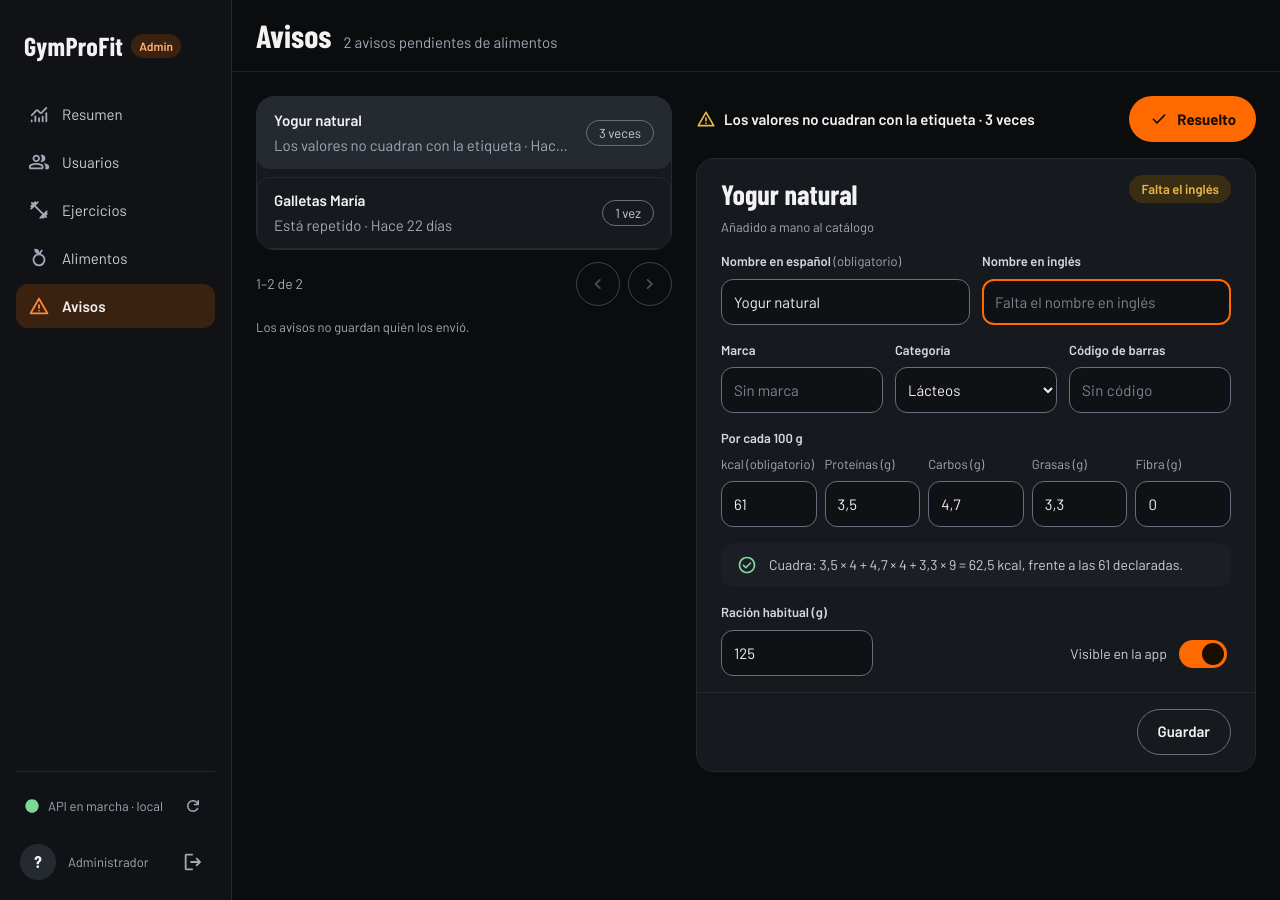
it: Avisos desde 1440 px › un producto sin materializar no se edita, pero se reconoce y se resuelve
Expected: the heading "Yogur natural" is shown, [721,175,874,214]
What coordinates should you click on to do the following:
click the button "Galletas María Está repetido · Hace 22 días 1 vez"
I would click on:
 (320, 200)
Its box is [257,177,671,249].
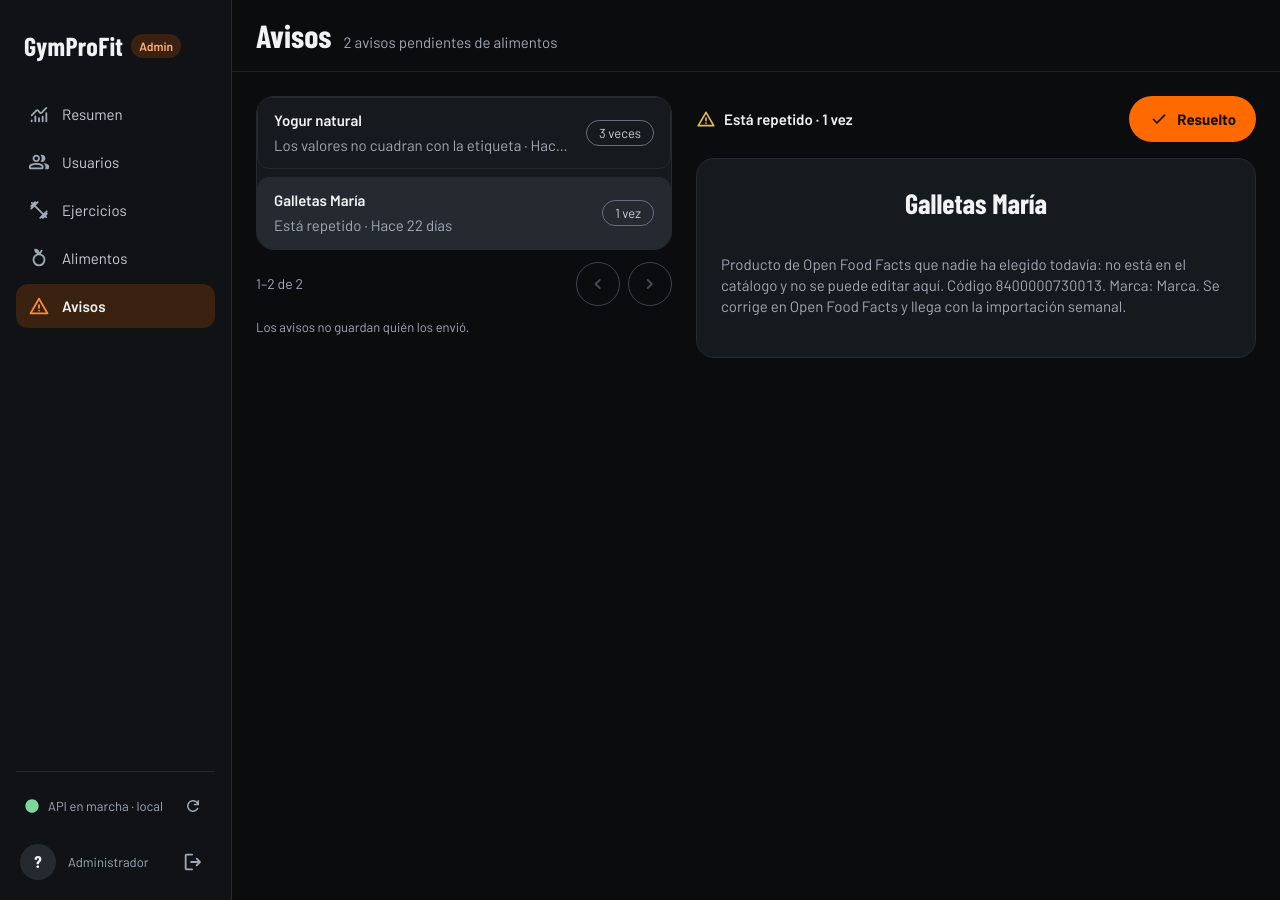
Now the heading "Galletas María" is shown, box [905,184,1047,223]
Now the text "8400000730013" is shown, box [995,276,1102,294]
Now the label labelled "Nombre en español" is gone
